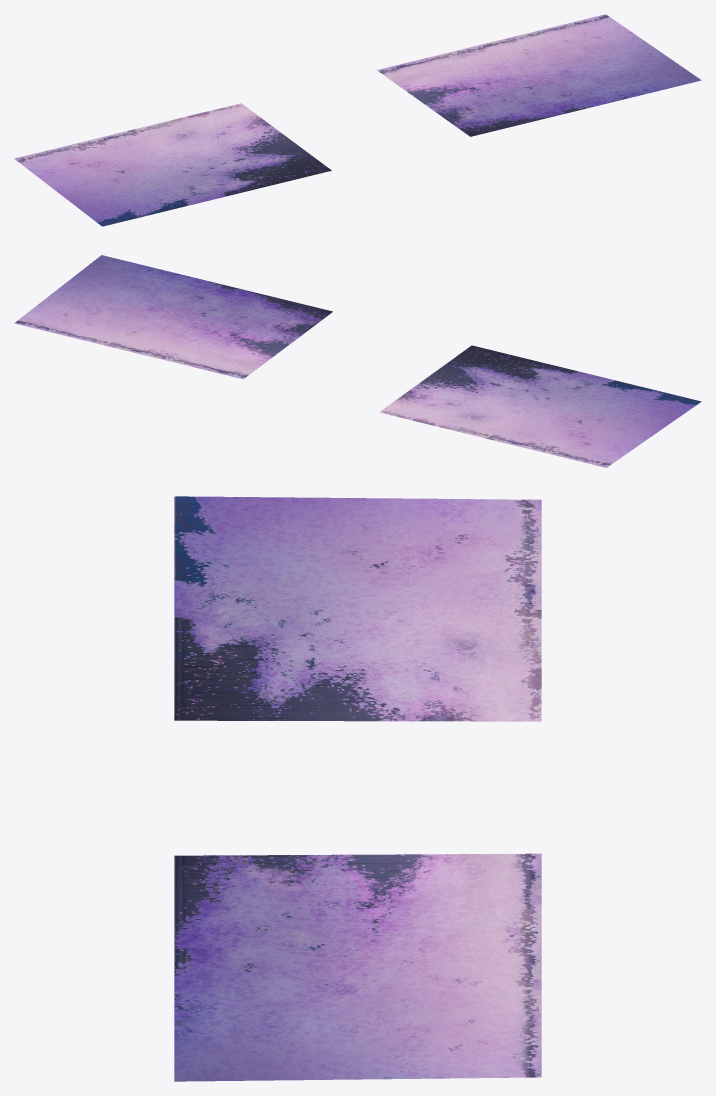
3 renders of one model, top to bottom at view 1: azimuth 30°, elevation 25°; view 2: azimuth 150°, elevation 25°; view 3: azimuth 270°, elevation 25°, orthographic. The views are drawn at different scales.
Visible parts, largest first — view 1: Mesh_0007; view 2: Mesh_0007; view 3: Mesh_0007.
Boxes of the visible parts, x1,y1,x2,y2 form: Mesh_0007: (14,14,701,226); Mesh_0007: (14,255,701,467); Mesh_0007: (174,496,541,1081).
Bounding box in the file's own units: 140351 × 0.00607 × 37241.
